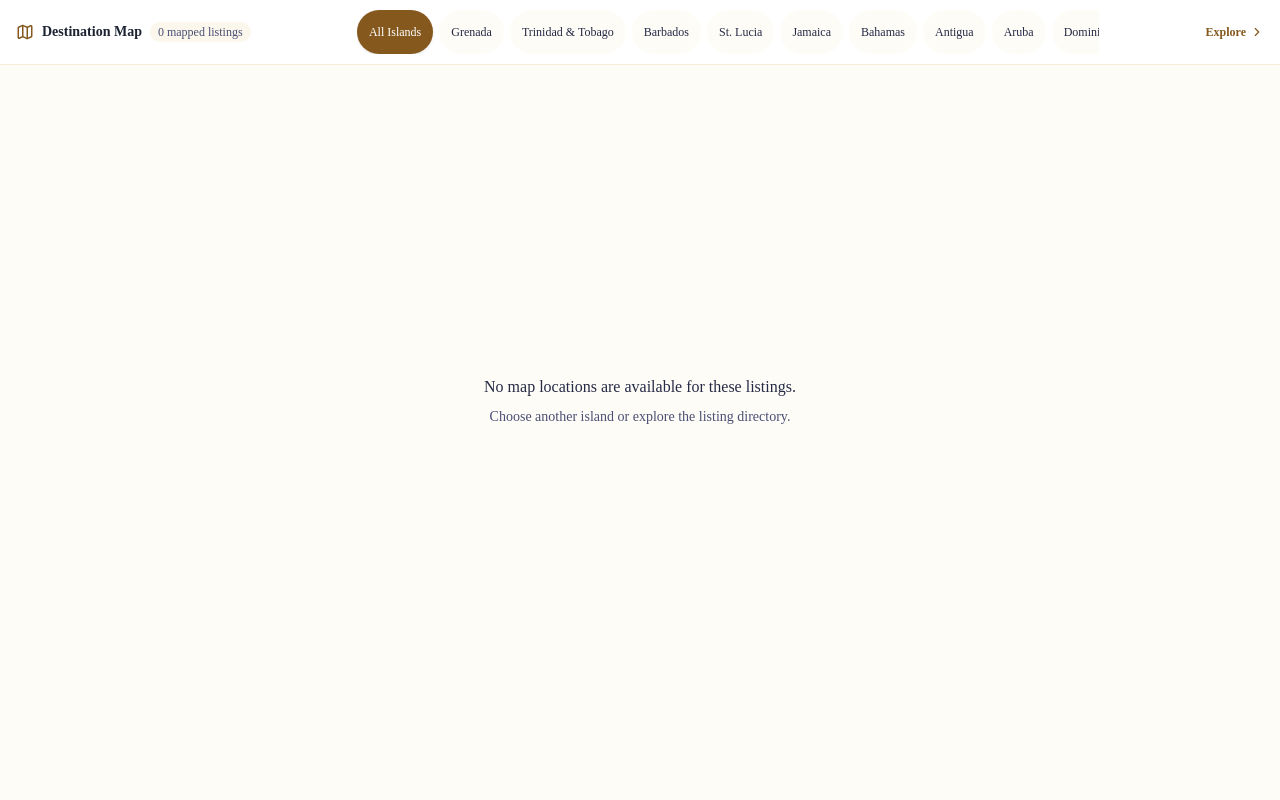
Scenario: distinguishes a successful empty map scope from failures with readable map status
Click the button "Grenada": coordinates (472, 32) x1=439 y1=10 x2=504 y2=54
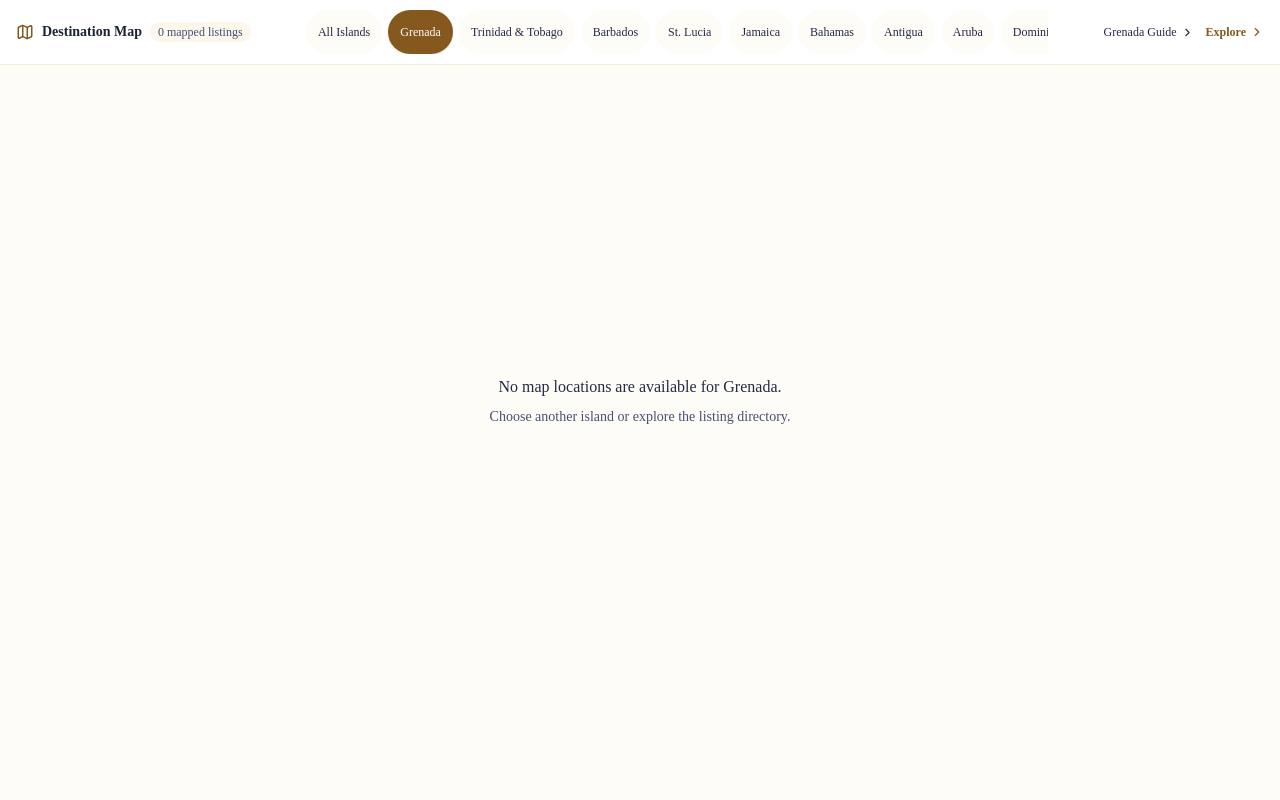
Result: the message shows "No map locations are available for Grenada"
